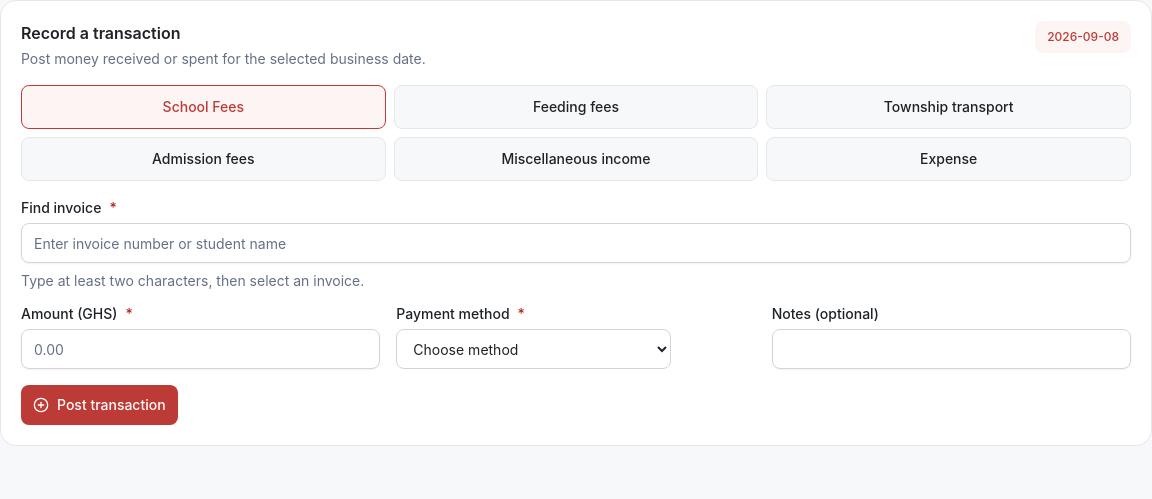
Scenario: daily cashflow entry › requires selecting a search result and invalidates selection when the query changes
In the dropdown labelled "Find invoice *": x=576, y=243 [21,223,1131,263], type "BBA/INV"
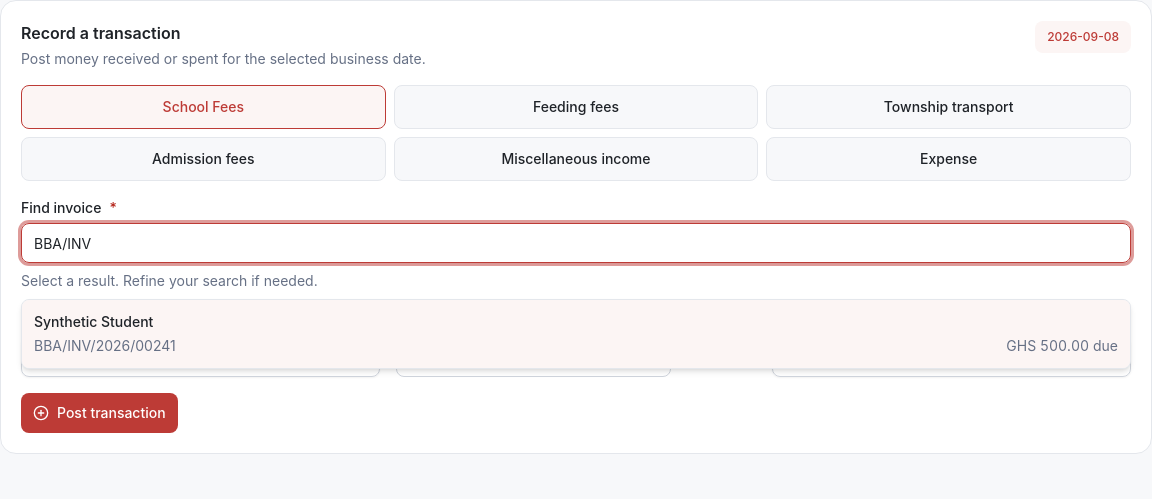
Click the option "Synthetic Student BBA/INV/2026/00241 GHS 500.00 due": x=94, y=322 [22,300,1130,368]
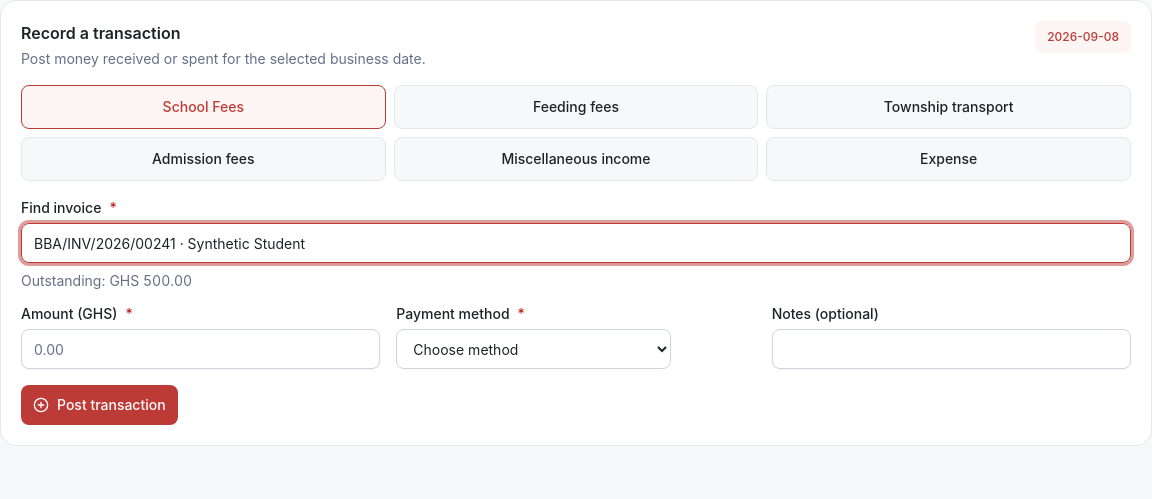
Replace the text in the dropdown labelled "Find invoice *" with "another": x=576, y=243 [21,223,1131,263]
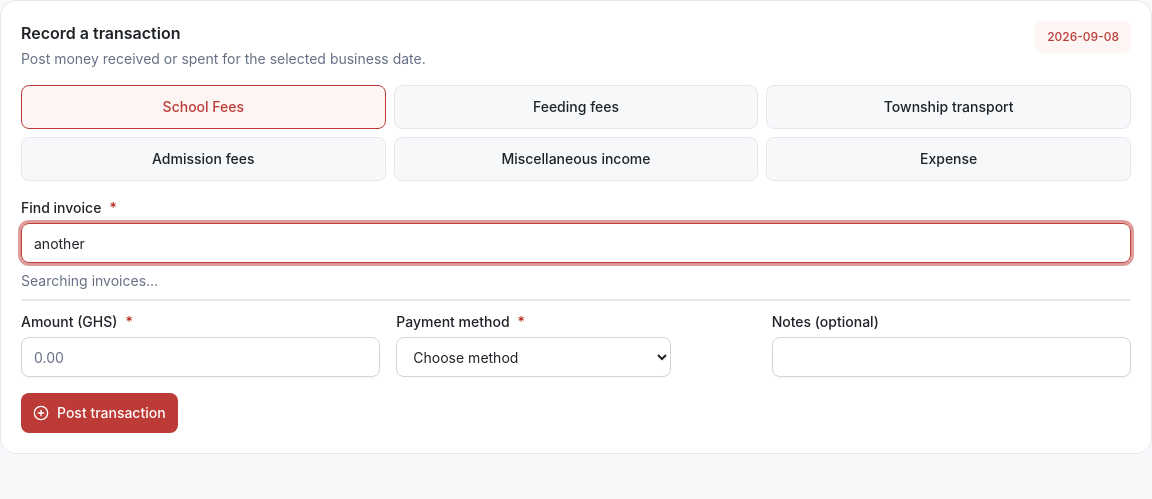
In the field labelled "Amount (GHS) *": x=201, y=357 [21,337,380,377], type "10"
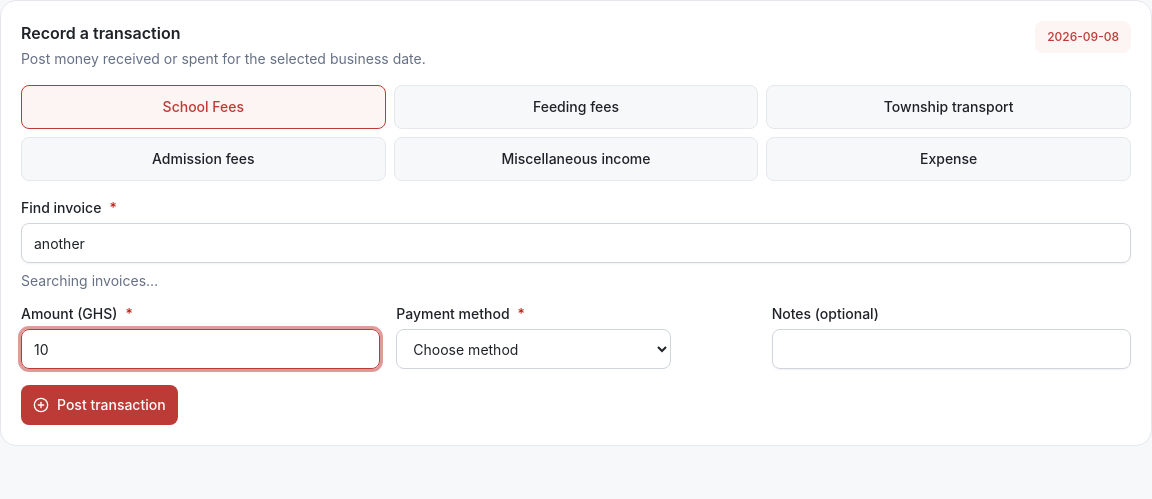
Select "Cash" in the dropdown labelled "Payment method *": x=534, y=349 [396,329,671,369]
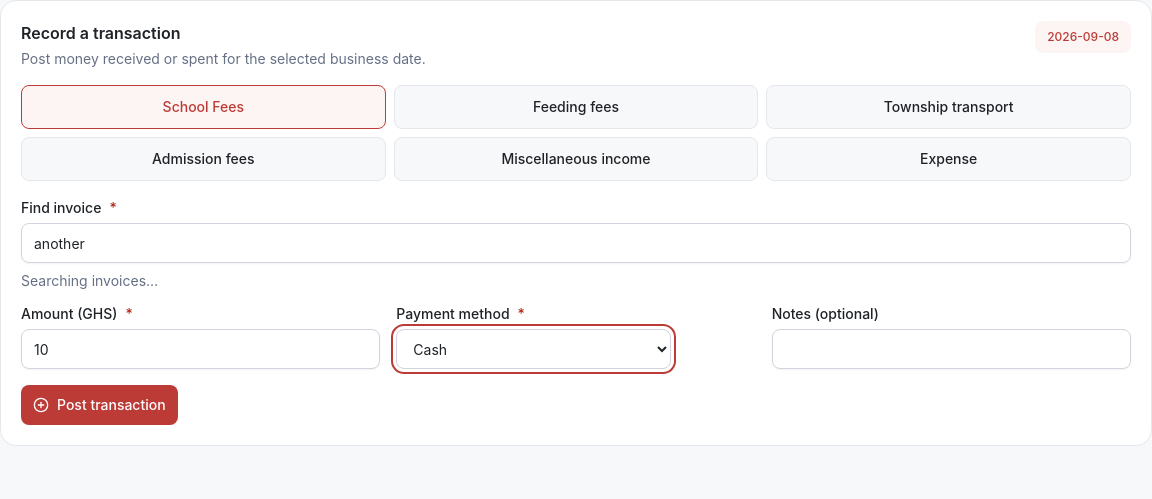
Click the button "Post transaction": x=99, y=405 [21,385,178,425]
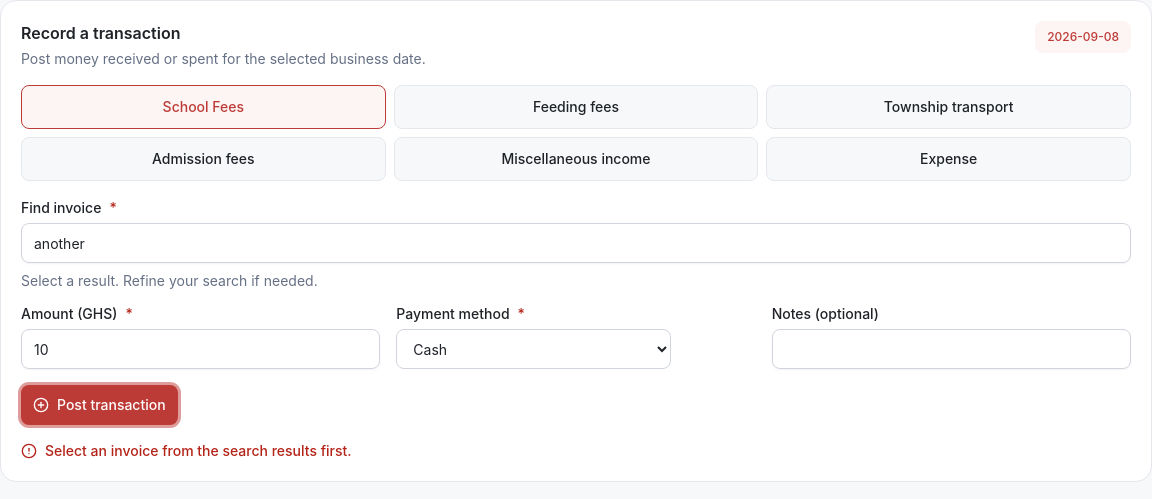
Expected: the message shows "Select an invoice", [45,442,352,459]
